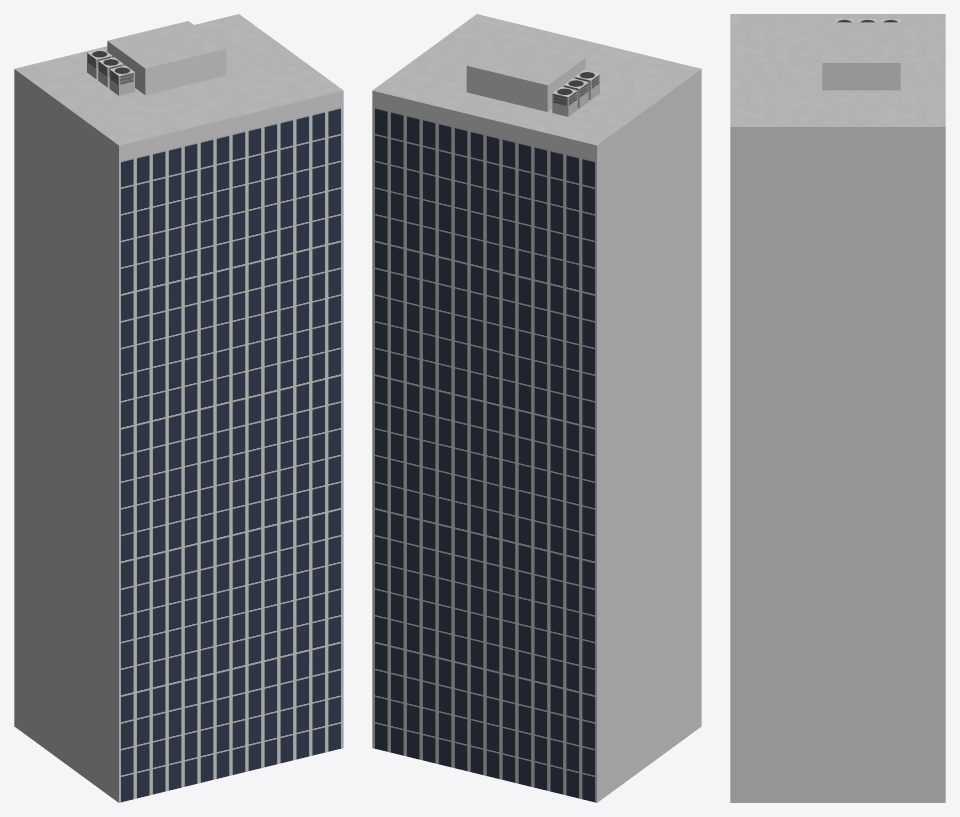
The model's file is Building_M_W1_001.fbx.
3 views of the same model, side by side, from view 1: azimuth 30°, elevation 25°; view 2: azimuth 150°, elevation 25°; view 3: azimuth 270°, elevation 25° (orthographic). The views are drawn at different scales.
Visible parts, largest first — view 1: Building_M_W1_001; view 2: Building_M_W1_001; view 3: Building_M_W1_001.
Boxes of the visible parts, x1,y1,x2,y2 form: Building_M_W1_001: (14,14,343,802); Building_M_W1_001: (372,14,701,802); Building_M_W1_001: (730,14,945,802).
Bounding box in the file's own units: 38.79 × 113 × 31.28.
